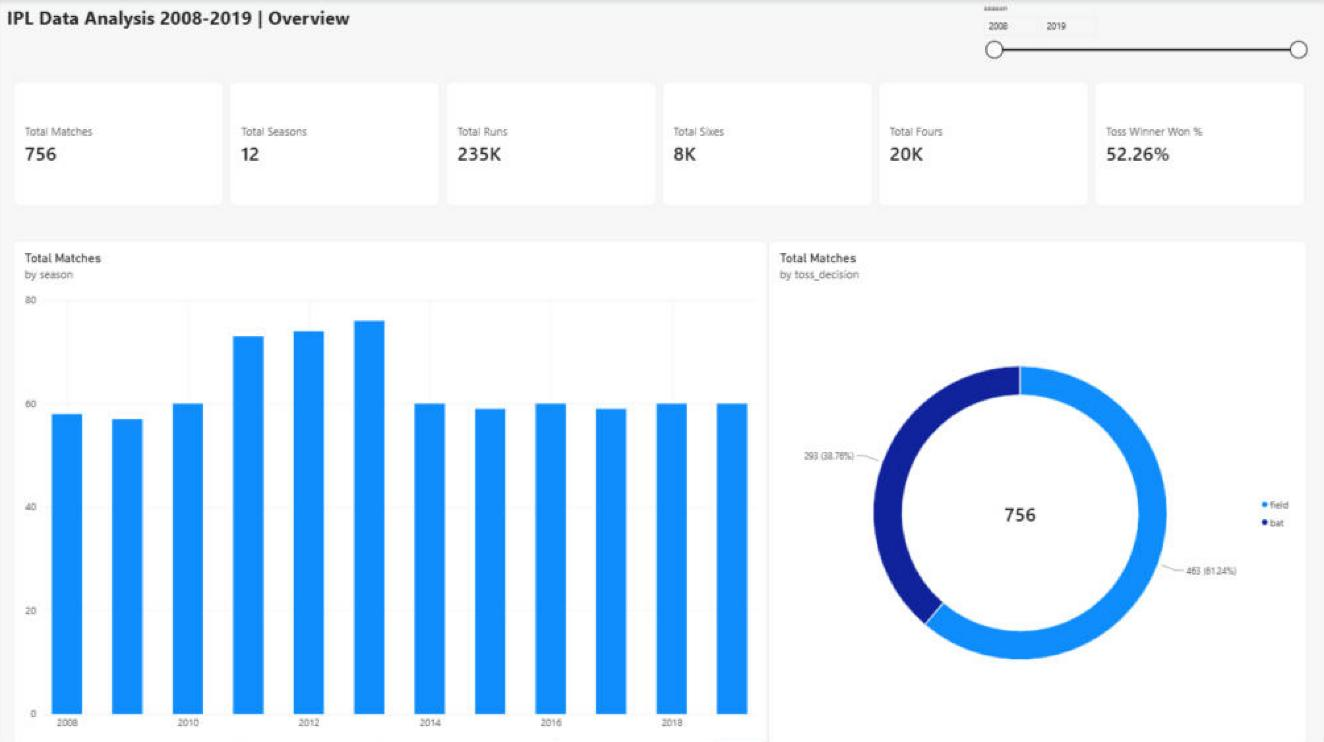

This screenshot's page, from the dashboard's own definition file:
{"tool":"powerbi","page":{"name":"Overview","canvas":[1920,1080],"ordinal":0},"visuals":[{"type":"cardVisual","fields":{"Data":["matches.Total Matches","matches.Total Seasons","matches.Total Runs","matches.Total Sixes","matches.Total Fours","matches.Toss Winner Won %"]},"box":[23.5,119.4,1873,181],"z":0},{"type":"clusteredColumnChart","fields":{"Category":["matches.season"],"Y":["matches.Total Matches"]},"box":[23.5,349.3,1093,731.1],"z":1},{"type":"donutChart","fields":{"Category":["matches.toss_decision"],"Y":["matches.Total Matches"]},"box":[1117,349,780,731],"z":2},{"type":"textbox","box":[15,8,820,60],"z":3},{"type":"slicer","fields":{"Values":["matches.season"]},"box":[1420,5,480,95],"z":4}]}

Visuals, with their boxes in screenshot pixels (x1, y1, x2, y2), scaled from the page's 1920x1080 canvas onto the 1324x742 screenshot:
cardVisual - matches.Total Matches x matches.Total Seasons: bbox(16, 82, 1308, 206)
clusteredColumnChart - matches.season x matches.Total Matches: bbox(16, 240, 770, 741)
donutChart - matches.toss_decision x matches.Total Matches: bbox(770, 240, 1308, 741)
textbox: bbox(10, 5, 576, 47)
slicer - matches.season: bbox(979, 3, 1310, 69)
